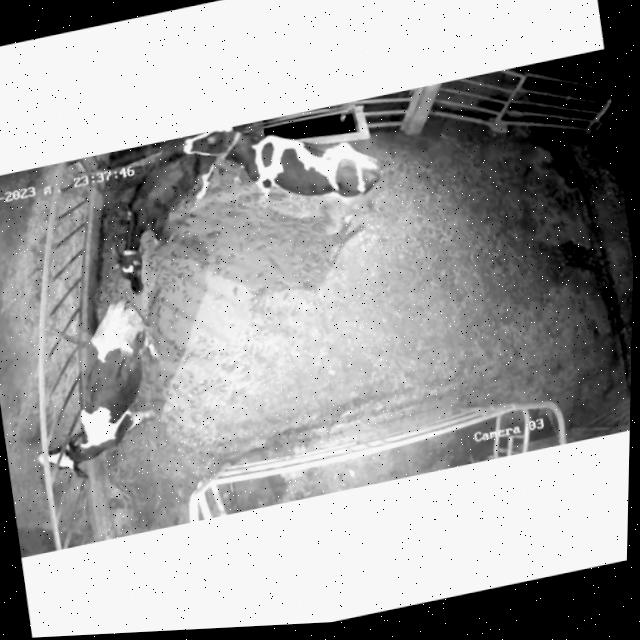propping: (167, 120, 271, 186)
